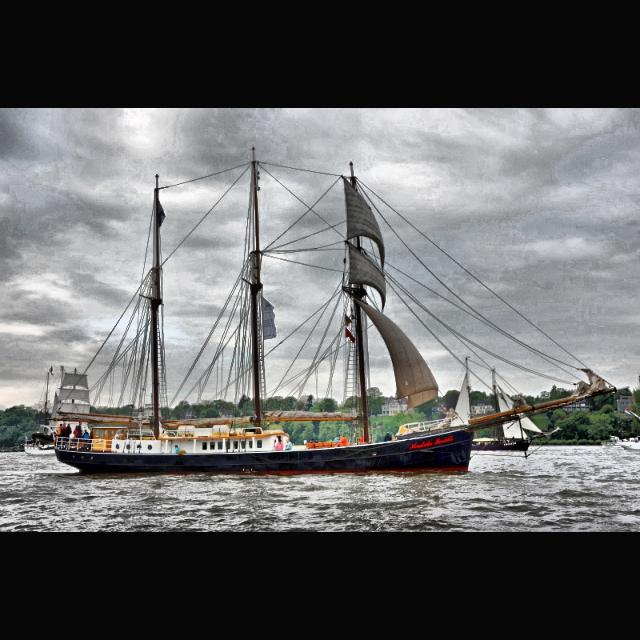sailing_vessel: (53, 145, 617, 475)
